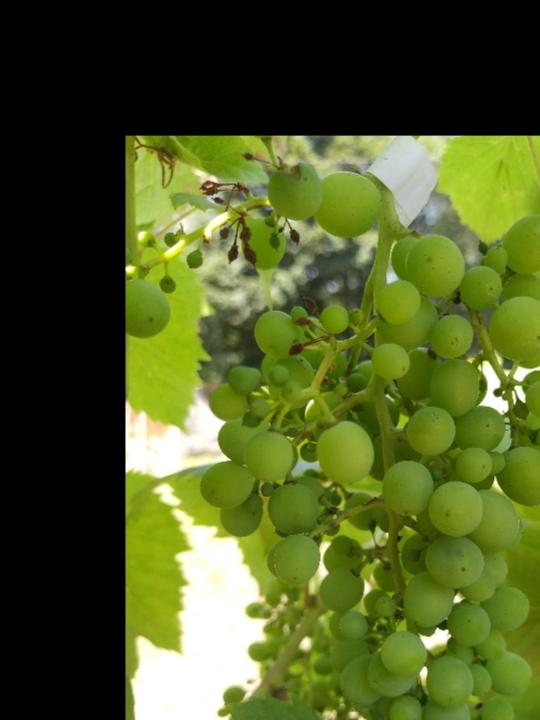grape: (194, 212, 540, 720)
